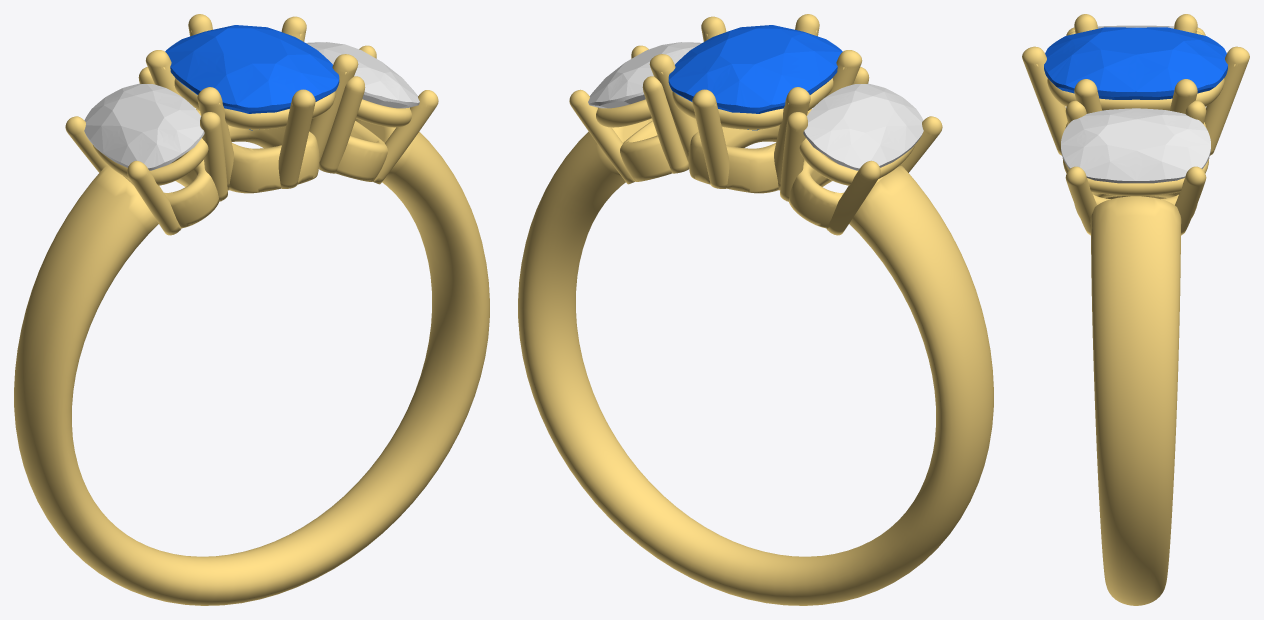
File: bluesapphire-cushion-yellowgold-6prong-taperedband-3stone.glb
3 views of the same model, side by side, from view 1: azimuth 30°, elevation 25°; view 2: azimuth 150°, elevation 25°; view 3: azimuth 270°, elevation 25° (orthographic).
Visible parts, largest first — view 1: metal.001, stone.002, side.004, side.005; view 2: metal.001, stone.002, side.004, side.005; view 3: metal.001, stone.002, side.005.
Boxes of the visible parts, x1=… form: metal.001: x1=14, y1=14, x2=489, y2=605; stone.002: x1=165, y1=25, x2=339, y2=130; side.004: x1=84, y1=83, x2=204, y2=170; side.005: x1=306, y1=42, x2=419, y2=108; metal.001: x1=518, y1=14, x2=993, y2=605; stone.002: x1=668, y1=25, x2=842, y2=130; side.004: x1=803, y1=83, x2=923, y2=170; side.005: x1=588, y1=42, x2=701, y2=108; metal.001: x1=1022, y1=14, x2=1249, y2=605; stone.002: x1=1044, y1=27, x2=1227, y2=99; side.005: x1=1061, y1=108, x2=1210, y2=183.
Bounding box in the file's own units: 20.09 × 23.03 × 8.8.
